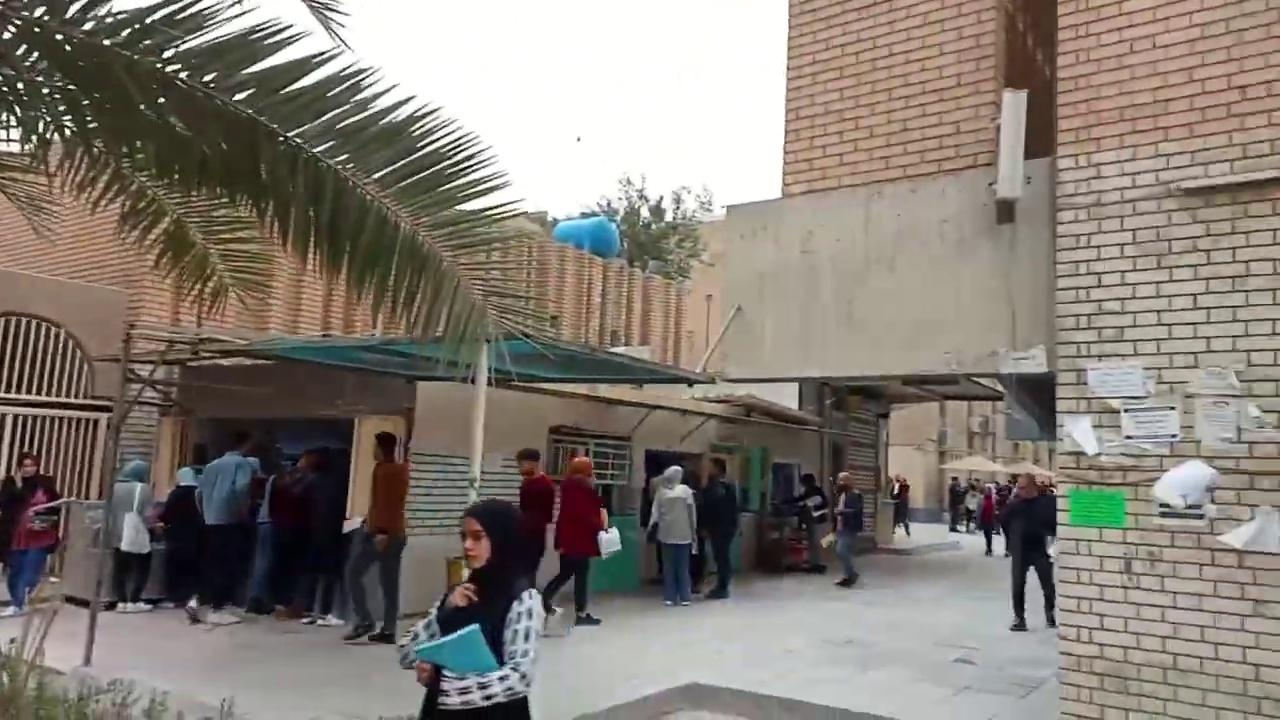person: (412, 497, 541, 719), (342, 430, 410, 644), (541, 456, 608, 626), (0, 451, 63, 617), (999, 471, 1057, 631), (106, 459, 162, 613), (647, 465, 697, 606), (513, 447, 555, 591), (698, 456, 739, 599), (776, 472, 829, 573), (831, 471, 864, 587), (891, 475, 911, 537)
tree: (0, 0, 561, 676), (1, 0, 711, 370), (578, 171, 715, 367)
